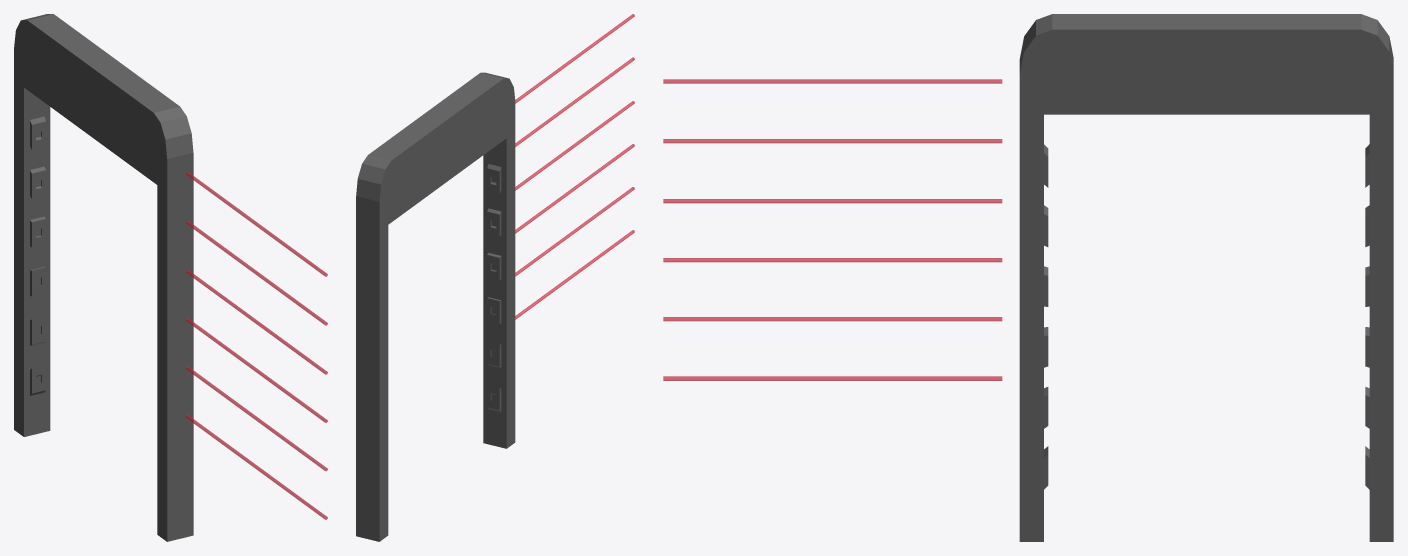
Rendered from Laser.fbx.
The picture shows the model from 3 angles, left to right: view 1: azimuth 30°, elevation 25°; view 2: azimuth 150°, elevation 25°; view 3: azimuth 270°, elevation 25°; orthographic projection. The views are drawn at different scales.
Visible parts, largest first — view 1: Cube, Cylinder.003, Cylinder.001, Cylinder.002, Cylinder.004, Cylinder, Cylinder.005; view 2: Cube, Cylinder.003, Cylinder.004, Cylinder.005, Cylinder, Cylinder.001, Cylinder.002; view 3: Cube, Cylinder, Cylinder.005, Cylinder.001, Cylinder.002, Cylinder.003, Cylinder.004.
Boxes of the visible parts, x1,y1,x2,y2 form: Cube: (14,14,193,541); Cylinder.003: (186,318,327,422); Cylinder.001: (186,220,327,325); Cylinder.002: (186,269,327,374); Cylinder.004: (186,366,327,471); Cylinder: (186,172,327,276); Cylinder.005: (186,415,327,519); Cube: (356,72,515,541); Cylinder.003: (515,144,634,233); Cylinder.004: (515,187,634,276); Cylinder.005: (515,230,634,319); Cylinder: (515,14,634,103); Cylinder.001: (515,57,634,146); Cylinder.002: (515,101,634,190); Cube: (1019,14,1393,541); Cylinder: (663,79,1002,83); Cylinder.005: (663,376,1002,380); Cylinder.001: (663,139,1002,143); Cylinder.002: (663,199,1002,203); Cylinder.003: (663,258,1002,262); Cylinder.004: (663,317,1002,321).
Bounding box in the file's own units: 19.86 × 302 × 391.
